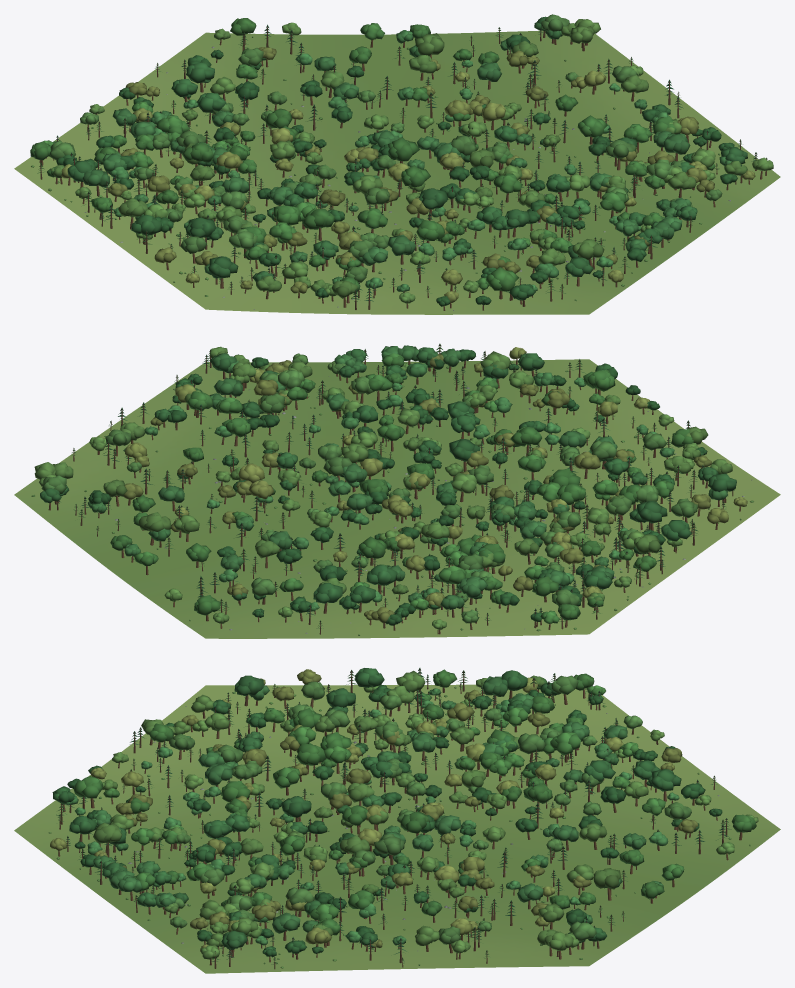
3 views of the same model, one above another, from view 1: azimuth 30°, elevation 25°; view 2: azimuth 150°, elevation 25°; view 3: azimuth 270°, elevation 25° (orthographic).
Parts seen in each view (by area): view 1: terrain, broadleaf_canopy, trunks, conifer_canopy, shrubs; view 2: terrain, broadleaf_canopy, trunks, conifer_canopy; view 3: terrain, broadleaf_canopy, trunks, conifer_canopy.
Part boxes in pixels (x1,y1,x2,y2): terrain: (14, 30, 780, 314); broadleaf_canopy: (30, 14, 773, 306); trunks: (39, 26, 766, 310); conifer_canopy: (37, 24, 767, 301); shrubs: (31, 36, 737, 300); terrain: (14, 359, 780, 638); broadleaf_canopy: (34, 345, 747, 629); trunks: (48, 345, 740, 634); conifer_canopy: (58, 343, 734, 628); terrain: (14, 684, 780, 973); broadleaf_canopy: (50, 668, 758, 959); trunks: (58, 669, 742, 969); conifer_canopy: (56, 668, 731, 964).
Bounding box in the file's own units: 4330 × 288 × 5000.
